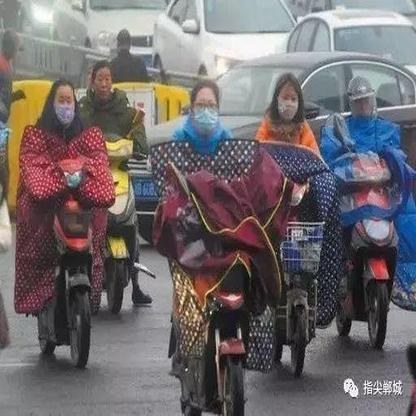target: (147, 80, 291, 414), (14, 78, 111, 370), (254, 73, 343, 377), (78, 61, 157, 314)
